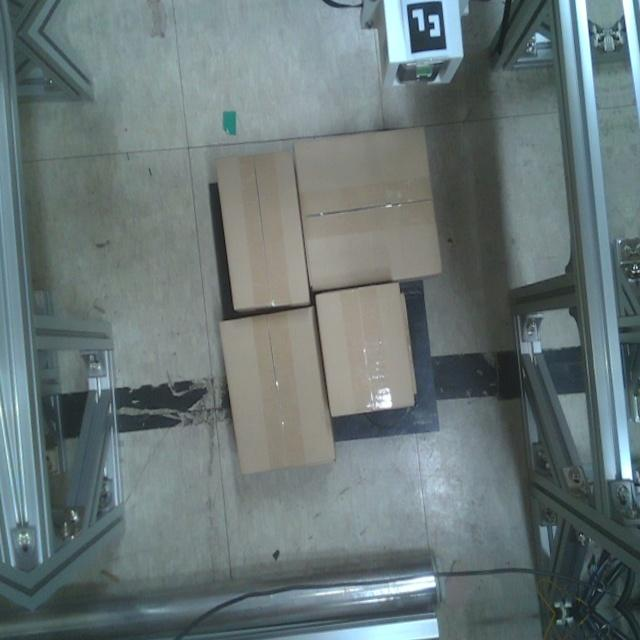box: (292, 123, 446, 292), (215, 303, 340, 478), (213, 146, 313, 313), (310, 279, 417, 419)
